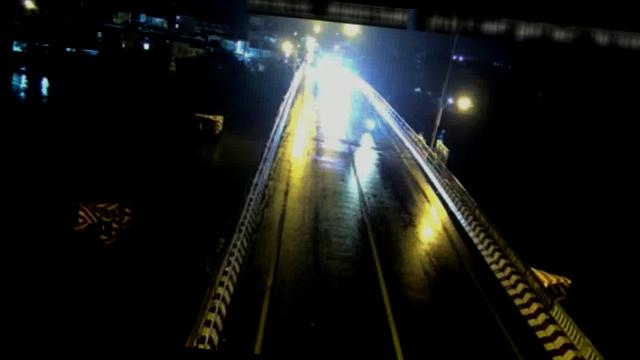Bike: (361, 110, 380, 134)
